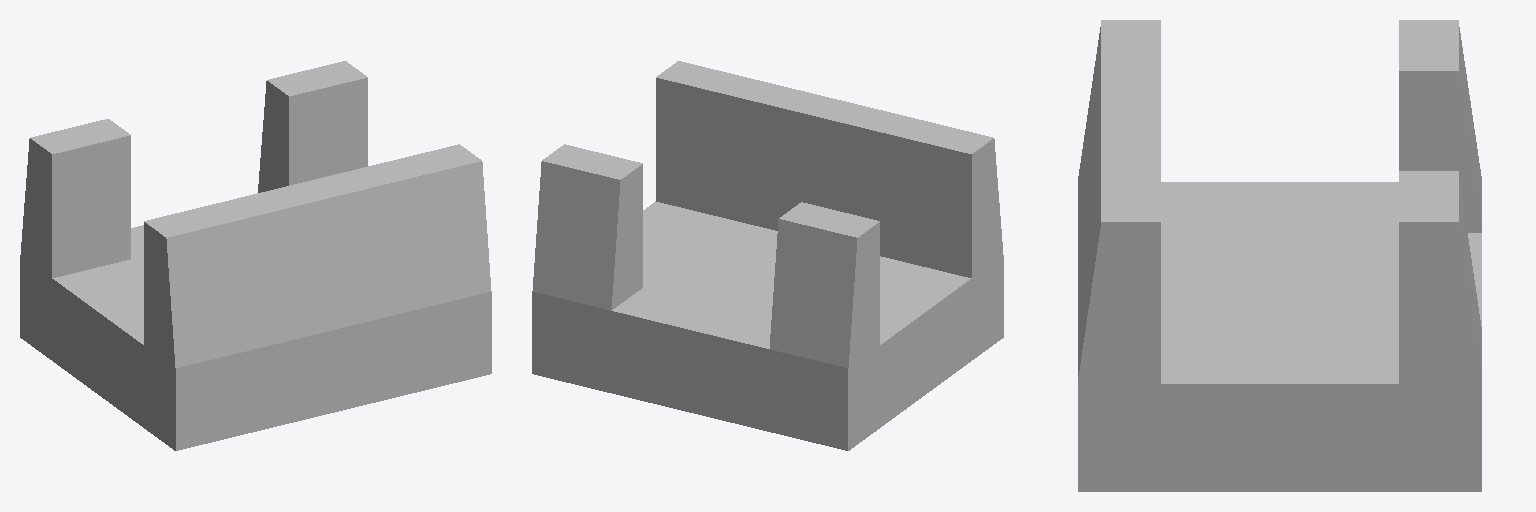
URDF robot description (g1):
<?xml version="1.0" encoding="utf-8"?>
<robot name="g1">
  <link name="gripper_base">
    <visual>
      <geometry>
        <mesh filename="package://g1/meshes/visual/L0_visual_0.obj" scale="1.0 1.0 1.0" />
      </geometry>
      <material name="Material">
        <color rgba="0.8 0.8 0.8 1.0" />
      </material>
    </visual>
    <visual>
      <geometry>
        <mesh filename="package://g1/meshes/visual/L0_visual_1.obj" scale="1.0 1.0 1.0" />
      </geometry>
      <material name="Material">
        <color rgba="0.8 0.8 0.8 1.0" />
      </material>
    </visual>
    <visual>
      <geometry>
        <mesh filename="package://g1/meshes/visual/L0_visual_2.obj" scale="1.0 1.0 1.0" />
      </geometry>
      <material name="Material">
        <color rgba="0.8 0.8 0.8 1.0" />
      </material>
    </visual>
    <visual>
      <geometry>
        <mesh filename="package://g1/meshes/visual/L0_visual_3.obj" scale="1.0 1.0 1.0" />
      </geometry>
      <material name="Material">
        <color rgba="0.8 0.8 0.8 1.0" />
      </material>
    </visual>
    <collision>
      <geometry>
        <mesh filename="package://g1/meshes/collision/L0_collision_0.obj" scale="1.0 1.0 1.0" />
      </geometry>
    </collision>
    <collision>
      <geometry>
        <mesh filename="package://g1/meshes/collision/L0_collision_1.obj" scale="1.0 1.0 1.0" />
      </geometry>
    </collision>
    <collision>
      <geometry>
        <mesh filename="package://g1/meshes/collision/L0_collision_2.obj" scale="1.0 1.0 1.0" />
      </geometry>
    </collision>
    <collision>
      <geometry>
        <mesh filename="package://g1/meshes/collision/L0_collision_3.obj" scale="1.0 1.0 1.0" />
      </geometry>
    </collision>
  </link>
</robot>

--- Facts derived from the render (not from the file) ---
3 views of the same robot in one strip: view 1: azimuth 30°, elevation 25°; view 2: azimuth 150°, elevation 25°; view 3: azimuth 270°, elevation 25° (orthographic).
Robot: g1 — 1 links, 0 joints (none); root link gripper_base; default pose: every joint at zero.
Visible links, largest first — view 1: gripper_base; view 2: gripper_base; view 3: gripper_base.
Link boxes in pixels (left/top/right/bottom): gripper_base: left=20, top=61, right=491, bottom=450; gripper_base: left=532, top=61, right=1003, bottom=450; gripper_base: left=1078, top=20, right=1481, bottom=491.
Bounding box of the posed robot: 0.1 × 0.085 × 0.0625 m (x, y, z).
Meshes: 4 distinct files referenced, 4 mesh visuals loaded (4 OBJ).